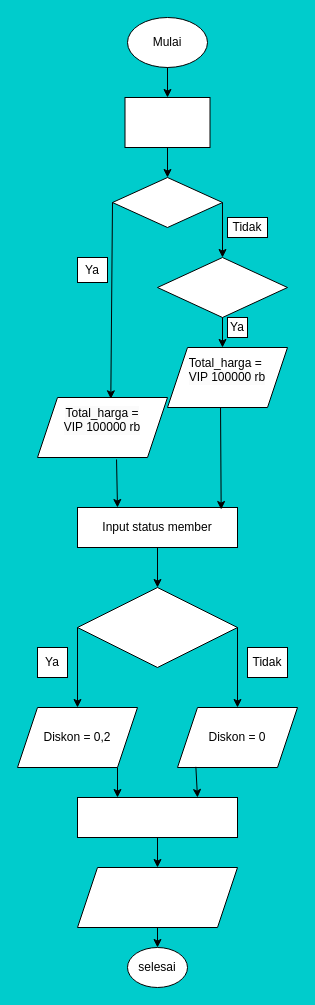
Image size: 315x1005. Some labels were removed from this diagram. The box of each missing label's shape, as (x1, y1, x2, y2) in pixels:
Apakah member?: (76, 586, 238, 668)
Apakah tiket reguler: (112, 176, 222, 228)
Apakah tiket VIP?: (156, 256, 288, 318)
harga_final = total_harga (1 - diskon): (76, 796, 238, 838)
Input tipe tiket: (124, 96, 210, 148)
Tampilkan total harga: (76, 866, 238, 928)
